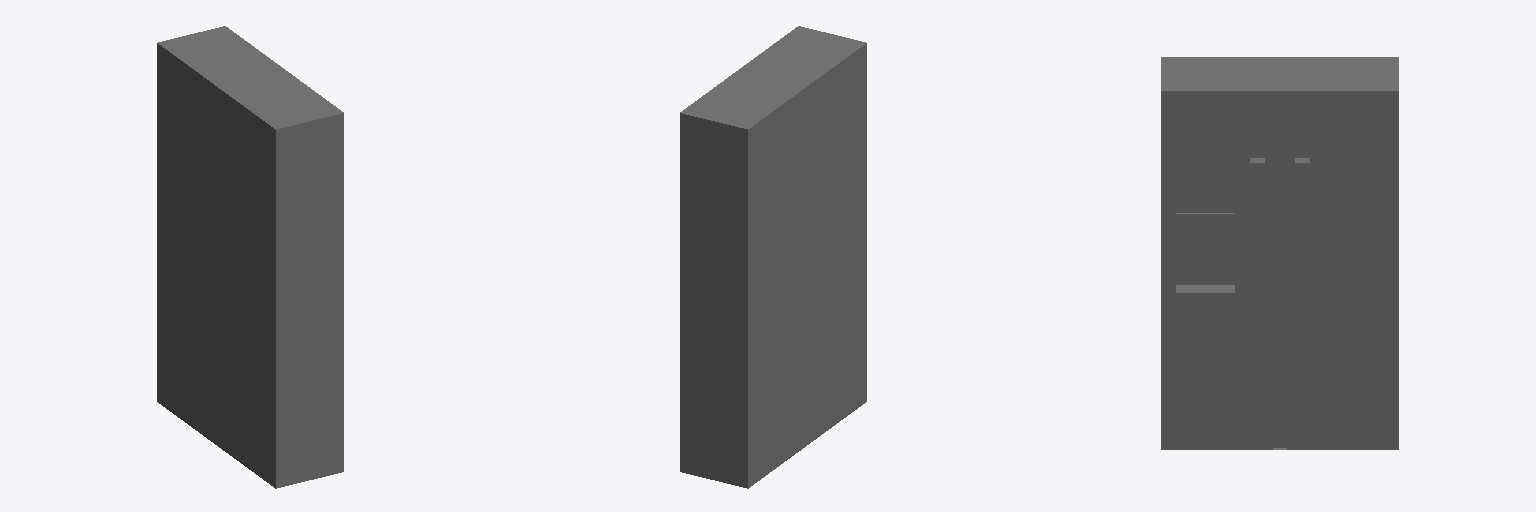
Rendered from fridge2.obj.
3 views of the same model, side by side, from view 1: azimuth 30°, elevation 25°; view 2: azimuth 150°, elevation 25°; view 3: azimuth 270°, elevation 25° (orthographic).
Visible parts, largest first — view 1: pCube1; view 2: pCube1; view 3: pCube1.
Boxes of the visible parts, <box> form: pCube1: <box>157,26,343,488</box>; pCube1: <box>680,26,866,488</box>; pCube1: <box>1161,57,1398,449</box>.
Bounding box in the file's own units: 1.16 × 5 × 3.